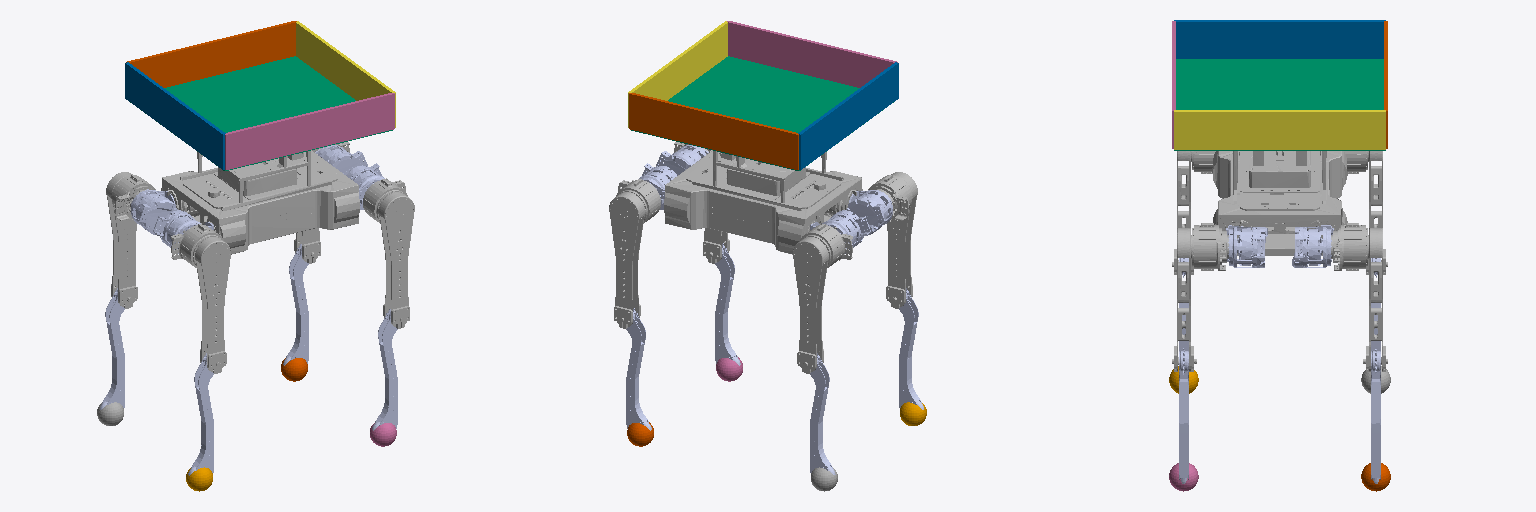
--- Facts derived from the render (not from the file) ---
Views: 3 orthographic renders of the robot side by side, from view 1: azimuth 30°, elevation 25°; view 2: azimuth 150°, elevation 25°; view 3: azimuth 270°, elevation 25°.
Model stoch3 with 24 links and 23 joints (12 revolute, 10 fixed, 1 floating), rooted at base_link, posed every joint at zero.
Visible links, largest first — view 1: base_link, payload_box_bottom, payload_box_right, payload_box_left, br_thigh_link, fr_thigh_link, payload_box_back, bl_thigh_link, payload_box_front, fr_shank_link, fl_shank_link, br_shank_link (+6 smaller); view 2: base_link, payload_box_bottom, payload_box_left, payload_box_right, bl_thigh_link, fl_thigh_link, payload_box_back, br_thigh_link, payload_box_front, fl_shank_link, fr_shank_link, bl_shank_link (+6 smaller); view 3: payload_box_bottom, base_link, payload_box_front, payload_box_back, fr_thigh_link, fl_thigh_link, bl_thigh_link, br_thigh_link, fr_abd_link, fl_abd_link, fl_shank_link, fr_shank_link.
Link boxes in pixels (x1=…): base_link: x1=161, y1=150, x2=359, y2=254; payload_box_bottom: x1=130, y1=56, x2=392, y2=170; payload_box_right: x1=225, y1=93, x2=394, y2=169; payload_box_left: x1=126, y1=21, x2=296, y2=87; br_thigh_link: x1=171, y1=224, x2=230, y2=373; fr_thigh_link: x1=363, y1=178, x2=414, y2=328; payload_box_back: x1=125, y1=62, x2=225, y2=169; bl_thigh_link: x1=106, y1=172, x2=155, y2=308; payload_box_front: x1=296, y1=21, x2=395, y2=127; fr_shank_link: x1=372, y1=309, x2=397, y2=430; fl_shank_link: x1=283, y1=244, x2=308, y2=365; br_shank_link: x1=188, y1=353, x2=213, y2=475; base_link: x1=664, y1=150, x2=862, y2=254; payload_box_bottom: x1=631, y1=56, x2=893, y2=170; payload_box_left: x1=629, y1=93, x2=798, y2=169; payload_box_right: x1=727, y1=21, x2=897, y2=87; bl_thigh_link: x1=793, y1=224, x2=852, y2=373; fl_thigh_link: x1=609, y1=179, x2=660, y2=328; payload_box_back: x1=798, y1=62, x2=898, y2=169; br_thigh_link: x1=868, y1=172, x2=917, y2=308; payload_box_front: x1=628, y1=21, x2=727, y2=127; fl_shank_link: x1=626, y1=308, x2=651, y2=430; fr_shank_link: x1=715, y1=243, x2=740, y2=365; bl_shank_link: x1=810, y1=353, x2=835, y2=474; payload_box_bottom: x1=1174, y1=59, x2=1385, y2=150; base_link: x1=1212, y1=151, x2=1347, y2=255; payload_box_front: x1=1174, y1=110, x2=1385, y2=149; payload_box_back: x1=1174, y1=20, x2=1385, y2=58; fr_thigh_link: x1=1172, y1=223, x2=1228, y2=371; fl_thigh_link: x1=1331, y1=223, x2=1387, y2=371; bl_thigh_link: x1=1344, y1=151, x2=1387, y2=274; br_thigh_link: x1=1172, y1=151, x2=1215, y2=274; fr_abd_link: x1=1226, y1=225, x2=1267, y2=267; fl_abd_link: x1=1292, y1=225, x2=1333, y2=267; fl_shank_link: x1=1371, y1=348, x2=1380, y2=483; fr_shank_link: x1=1179, y1=348, x2=1188, y2=483.
Bounding box of the posed robot: 0.6912 × 0.5242 × 0.998 m (x, y, z).
13 mesh visuals loaded from 13 distinct referenced files (13 binary STL).

URDF robot description (stoch3):
<?xml version="1.0" encoding="utf-8"?>
<!-- =================================================================================== -->
<!-- |    This document was autogenerated by xacro from stoch3.urdf.xacro              | -->
<!-- |    EDITING THIS FILE BY HAND IS NOT RECOMMENDED                                 | -->
<!-- =================================================================================== -->
<robot name="stoch3">
  <!-- <link name="world">
      </link>
  <joint name="world_joint" type="floating">
    <parent link="world"/>
    <child link="base_link"/>
  </joint> -->

  <link name="base_link">
    <inertial>
      <origin rpy="0 0 0" xyz="-0.00066643 -4.8401E-05 0.068162"/>
      <mass value="9.7565"/>
      <!--mass value="9.7565"/ -->
      <inertia ixx="0.028321" ixy="7.0431E-06" ixz="1.0437E-05" iyy="0.033624" iyz="-2.4398E-08" izz="0.053863"/>
    </inertial>
    <visual>
      <origin rpy="0 0 0" xyz="0 0 0"/>
      <geometry>
        <mesh filename="../meshes/base_link.STL"/>
      </geometry>
      <material name="">
        <color rgba="0.75294 0.75294 0.75294 1"/>
      </material>
    </visual>
    <collision>
      <origin rpy="0 0 0" xyz="0 0 0"/>
      <geometry>
        <mesh filename="../meshes/base_link.STL"/>
      </geometry>
    </collision>
  </link>
  <link name="fl_abd_link">
    <inertial>
      <origin rpy="0 0 0" xyz="0.061349 -0.019504 -7.6667E-06"/>
      <mass value="0.94517"/>
      <inertia ixx="0.00061416" ixy="5.7906E-07" ixz="-3.8412E-06" iyy="0.0010243" iyz="-1.6902E-06" izz="0.00060713"/>
    </inertial>
    <visual>
      <origin rpy="0 0 0" xyz="0 0 0"/>
      <geometry>
        <mesh filename="../meshes/fl_abd_link.STL"/>
      </geometry>
      <material name="">
        <color rgba="0.79216 0.81961 0.93333 1"/>
      </material>
    </visual>
    <collision>
      <origin rpy="0 0 0" xyz="0 0 0"/>
      <geometry>
        <mesh filename="../meshes/fl_abd_link.STL"/>
      </geometry>
    </collision>
  </link>
  <joint name="fl_abd_joint" type="revolute">
    <origin rpy="0 0 0" xyz="0.206917503877324 0.101500000000002 0.0540300000000024"/>
    <parent link="base_link"/>
    <child link="fl_abd_link"/>
    <axis xyz="1 0 0"/>
    <limit effort="100" lower="-1.5708" upper="1.5708" velocity="100"/>
  </joint>
  <link name="fl_thigh_link">
    <inertial>
      <origin rpy="0 0 0" xyz="0.0014376 0.077483 -0.055275"/>
      <mass value="2.4957"/>
      <inertia ixx="0.0049396" ixy="4.7834E-05" ixz="-3.2241E-06" iyy="0.0054131" iyz="-1.5857E-06" izz="0.0011512"/>
    </inertial>
    <visual>
      <origin rpy="0 0 0" xyz="0 0 0"/>
      <geometry>
        <mesh filename="../meshes/fl_thigh_link.STL"/>
      </geometry>
      <material name="">
        <color rgba="0.75294 0.75294 0.75294 1"/>
      </material>
    </visual>
    <collision>
      <origin rpy="0 0 0" xyz="0 0 0"/>
      <geometry>
        <mesh filename="../meshes/fl_thigh_link.STL"/>
      </geometry>
    </collision>
  </link>
  <joint name="fl_hip_joint" type="revolute">
    <origin rpy="0 -3.14584042145611E-05 0" xyz="0.06378709521538 0.0139999999999987 0"/>
    <parent link="fl_abd_link"/>
    <child link="fl_thigh_link"/>
    <axis xyz="0 1 0"/>
    <limit effort="100" lower="-1.57078" upper="3.14159" velocity="100"/>
  </joint>
  <link name="fl_shank_link">
    <inertial>
      <origin rpy="0 0 0" xyz="-0.014616 -6.6962E-07 -0.11828"/>
      <mass value="0.37918"/>
      <inertia ixx="0.0021646" ixy="5.617E-09" ixz="-4.4468E-05" iyy="0.0022225" iyz="3.9894E-08" izz="6.6686E-05"/>
    </inertial>
    <visual>
      <origin rpy="0 0 0" xyz="0 0 0"/>
      <geometry>
        <mesh filename="../meshes/fl_shank_link.STL"/>
      </geometry>
      <material name="">
        <color rgba="0.79216 0.81961 0.93333 1"/>
      </material>
    </visual>
    <collision>
      <origin rpy="0 0 0" xyz="0 0 0"/>
      <geometry>
        <mesh filename="../meshes/fl_shank_link.STL"/>
      </geometry>
    </collision>
  </link>
  <joint name="fl_knee_joint" type="revolute">
    <origin rpy="0 3.14584042149928E-05 0" xyz="0 0.111399999999998 -0.296999999853041"/>
    <parent link="fl_thigh_link"/>
    <child link="fl_shank_link"/>
    <axis xyz="0 1 0"/>
    <limit effort="100" lower="-3.14159" upper="0" velocity="100"/>
  </joint>
  <link name="fr_abd_link">
    <inertial>
      <origin rpy="0 0 0" xyz="0.06156 0.019504 -0.00021624"/>
      <mass value="0.94517"/>
      <inertia ixx="0.00061326" ixy="3.2241E-07" ixz="1.5152E-08" iyy="0.0010243" iyz="-3.8552E-06" izz="0.00060803"/>
    </inertial>
    <visual>
      <origin rpy="0 0 0" xyz="0 0 0"/>
      <geometry>
        <mesh filename="../meshes/fr_abd_link.STL"/>
      </geometry>
      <material name="">
        <color rgba="0.79216 0.81961 0.93333 1"/>
      </material>
    </visual>
    <collision>
      <origin rpy="0 0 0" xyz="0 0 0"/>
      <geometry>
        <mesh filename="../meshes/fr_abd_link.STL"/>
      </geometry>
    </collision>
  </link>
  <joint name="fr_abd_joint" type="revolute">
    <origin rpy="0 0 0" xyz="0.206925357517166 -0.101499999999999 0.0540300000000003"/>
    <parent link="base_link"/>
    <child link="fr_abd_link"/>
    <axis xyz="1 0 0"/>
    <limit effort="100" lower="-1.5708" upper="1.5708" velocity="100"/>
  </joint>
  <link name="fr_thigh_link">
    <inertial>
      <origin rpy="0 0 0" xyz="0.00144107858196152 -0.07748346487516 -0.0551703662273829"/>
      <mass value="2.49567510872212"/>
      <inertia ixx="0.00493964200419569" ixy="-4.78342957937469E-05" ixz="3.2241369041665E-06" iyy="0.00541305231980369" iyz="-1.61934782864799E-06" izz="0.00115115548345638"/>
    </inertial>
    <visual>
      <origin rpy="0 0 0" xyz="0 0 0"/>
      <geometry>
        <mesh filename="../meshes/fr_thigh_link.STL"/>
      </geometry>
      <material name="">
        <color rgba="0.752941176470588 0.752941176470588 0.752941176470588 1"/>
      </material>
    </visual>
    <collision>
      <origin rpy="0 0 0" xyz="0 0 0"/>
      <geometry>
        <mesh filename="../meshes/fr_thigh_link.STL"/>
      </geometry>
    </collision>
  </link>
  <joint name="fr_hip_joint" type="revolute">
    <origin rpy="0 3.145840420901E-05 0" xyz="0.06377924157554 -0.0139999999999988 0"/>
    <parent link="fr_abd_link"/>
    <child link="fr_thigh_link"/>
    <axis xyz="0 1 0"/>
    <limit effort="100" lower="-1.57078" upper="3.14159" velocity="100"/>
  </joint>
  <link name="fr_shank_link">
    <inertial>
      <origin rpy="0 0 0" xyz="-0.014616 -6.6962E-07 -0.11828"/>
      <mass value="0.37918"/>
      <inertia ixx="0.0021646" ixy="5.617E-09" ixz="-4.4468E-05" iyy="0.0022225" iyz="3.9894E-08" izz="6.6686E-05"/>
    </inertial>
    <visual>
      <origin rpy="0 0 0" xyz="0 0 0"/>
      <geometry>
        <mesh filename="../meshes/fr_shank_link.STL"/>
      </geometry>
      <material name="">
        <color rgba="0.79216 0.81961 0.93333 1"/>
      </material>
    </visual>
    <collision>
      <origin rpy="0 0 0" xyz="0 0 0"/>
      <geometry>
        <mesh filename="../meshes/fr_shank_link.STL"/>
      </geometry>
    </collision>
  </link>
  <joint name="fr_knee_joint" type="revolute">
    <origin rpy="0 -3.14584042085783E-05 0" xyz="0 -0.111599999999999 -0.29699999985303"/>
    <parent link="fr_thigh_link"/>
    <child link="fr_shank_link"/>
    <axis xyz="0 1 0"/>
    <limit effort="100" lower="-3.14159" upper="0" velocity="100"/>
  </joint>
  <link name="bl_abd_link">
    <inertial>
      <origin rpy="0 0 0" xyz="0.030793 -0.019504 -0.00042262"/>
      <mass value="0.94517"/>
      <inertia ixx="0.00061091" ixy="-9.6216E-07" ixz="-1.2691E-06" iyy="0.0010243" iyz="1.7068E-06" izz="0.00061038"/>
    </inertial>
    <visual>
      <origin rpy="0 0 0" xyz="0 0 0"/>
      <geometry>
        <mesh filename="../meshes/bl_abd_link.STL"/>
      </geometry>
      <material name="">
        <color rgba="0.79216 0.81961 0.93333 1"/>
      </material>
    </visual>
    <collision>
      <origin rpy="0 0 0" xyz="0 0 0"/>
      <geometry>
        <mesh filename="../meshes/bl_abd_link.STL"/>
      </geometry>
    </collision>
  </link>
  <joint name="bl_abd_joint" type="revolute">
    <origin rpy="0 0 0" xyz="-0.299402452130055 0.101499999999997 0.0540300000000009"/>
    <parent link="base_link"/>
    <child link="bl_abd_link"/>
    <axis xyz="1 0 0"/>
    <limit effort="100" lower="-1.5708" upper="1.5708" velocity="100"/>
  </joint>
  <link name="bl_thigh_link">
    <inertial>
      <origin rpy="0 0 0" xyz="-0.00144107858108192 0.0774834648849106 -0.0551703662338023"/>
      <mass value="2.49567510818258"/>
      <inertia ixx="0.00493964200383586" ixy="-4.78342957989956E-05" ixz="-3.22413680518202E-06" iyy="0.0054130523194199" iyz="1.61934780851157E-06" izz="0.00115115548343042"/>
    </inertial>
    <visual>
      <origin rpy="0 0 0" xyz="0 0 0"/>
      <geometry>
        <mesh filename="../meshes/bl_thigh_link.STL"/>
      </geometry>
      <material name="">
        <color rgba="0.752941176470588 0.752941176470588 0.752941176470588 1"/>
      </material>
    </visual>
    <collision>
      <origin rpy="0 0 0" xyz="0 0 0"/>
      <geometry>
        <mesh filename="../meshes/bl_thigh_link.STL"/>
      </geometry>
    </collision>
  </link>
  <joint name="bl_hip_joint" type="revolute">
    <origin rpy="0 -3.14584042145611E-05 0" xyz="0.0286978530373435 0.0139999999999997 0"/>
    <parent link="bl_abd_link"/>
    <child link="bl_thigh_link"/>
    <axis xyz="0 1 0"/>
    <limit effort="100" lower="-1.57078" upper="3.14159" velocity="100"/>
  </joint>
  <link name="bl_shank_link">
    <inertial>
      <origin rpy="0 0 0" xyz="-0.014616 -6.6962E-07 -0.11828"/>
      <mass value="0.37918"/>
      <inertia ixx="0.0021646" ixy="5.617E-09" ixz="-4.4468E-05" iyy="0.0022225" iyz="3.9894E-08" izz="6.6686E-05"/>
    </inertial>
    <visual>
      <origin rpy="0 0 0" xyz="0 0 0"/>
      <geometry>
        <mesh filename="../meshes/bl_shank_link.STL"/>
      </geometry>
      <material name="">
        <color rgba="0.79216 0.81961 0.93333 1"/>
      </material>
    </visual>
    <collision>
      <origin rpy="0 0 0" xyz="0 0 0"/>
      <geometry>
        <mesh filename="../meshes/bl_shank_link.STL"/>
      </geometry>
    </collision>
  </link>
  <joint name="bl_knee_joint" type="revolute">
    <origin rpy="0 3.14584042094417E-05 0" xyz="0 0.111599999999496 -0.29699999985304"/>
    <parent link="bl_thigh_link"/>
    <child link="bl_shank_link"/>
    <axis xyz="0 1 0"/>
    <limit effort="100" lower="-3.14159" upper="0" velocity="100"/>
  </joint>
  <link name="br_abd_link">
    <inertial>
      <origin rpy="0 0 0" xyz="0.031108 0.019504 -1.7708E-05"/>
      <mass value="0.94517"/>
      <inertia ixx="0.00061475" ixy="8.7419E-07" ixz="3.1106E-06" iyy="0.0010243" iyz="1.7938E-06" izz="0.00060654"/>
    </inertial>
    <visual>
      <origin rpy="0 0 0" xyz="0 0 0"/>
      <geometry>
        <mesh filename="../meshes/br_abd_link.STL"/>
      </geometry>
      <material name="">
        <color rgba="0.79216 0.81961 0.93333 1"/>
      </material>
    </visual>
    <collision>
      <origin rpy="0 0 0" xyz="0 0 0"/>
      <geometry>
        <mesh filename="../meshes/br_abd_link.STL"/>
      </geometry>
    </collision>
  </link>
  <joint name="br_abd_joint" type="revolute">
    <origin rpy="0 0 0" xyz="-0.299402452130055 -0.101500000000005 0.0540300000000005"/>
    <parent link="base_link"/>
    <child link="br_abd_link"/>
    <axis xyz="1 0 0"/>
    <limit effort="100" lower="-1.5708" upper="1.5708" velocity="100"/>
  </joint>
  <link name="br_thigh_link">
    <inertial>
      <origin rpy="0 0 0" xyz="-0.00150303818321485 -0.0774834645949825 -0.0552213173300917"/>
      <mass value="2.49567512655825"/>
      <inertia ixx="0.0049362160738861" ixy="4.96261951245898E-05" ixz="2.5269174510805E-06" iyy="0.00541305233737715" iyz="1.18125628096648E-07" izz="0.00115458143484649"/>
    </inertial>
    <visual>
      <origin rpy="0 0 0" xyz="0 0 0"/>
      <geometry>
        <mesh filename="../meshes/br_thigh_link.STL"/>
      </geometry>
      <material name="">
        <color rgba="0.752941176470588 0.752941176470588 0.752941176470588 1"/>
      </material>
    </visual>
    <collision>
      <origin rpy="0 0 0" xyz="0 0 0"/>
      <geometry>
        <mesh filename="../meshes/br_thigh_link.STL"/>
      </geometry>
    </collision>
  </link>
  <joint name="br_hip_joint" type="revolute">
    <origin rpy="0 3.14584042201122E-05 0" xyz="0.0286978530373517 -0.0139999999999956 0"/>
    <parent link="br_abd_link"/>
    <child link="br_thigh_link"/>
    <axis xyz="0 1 0"/>
    <limit effort="100" lower="-1.57078" upper="3.14159" velocity="100"/>
  </joint>
  <link name="br_shank_link">
    <inertial>
      <origin rpy="0 0 0" xyz="-0.014616 -6.6962E-07 -0.11828"/>
      <mass value="0.37918"/>
      <inertia ixx="0.0021646" ixy="5.617E-09" ixz="-4.4468E-05" iyy="0.0022225" iyz="3.9894E-08" izz="6.6686E-05"/>
    </inertial>
    <visual>
      <origin rpy="0 0 0" xyz="0 0 0"/>
      <geometry>
        <mesh filename="../meshes/br_shank_link.STL"/>
      </geometry>
      <material name="">
        <color rgba="0.79216 0.81961 0.93333 1"/>
      </material>
    </visual>
    <collision>
      <origin rpy="0 0 0" xyz="0 0 0"/>
      <geometry>
        <mesh filename="../meshes/br_shank_link.STL"/>
      </geometry>
    </collision>
  </link>
  <joint name="br_knee_joint" type="revolute">
    <origin rpy="0 -3.14584042141294E-05 0" xyz="0 -0.111600000000005 -0.296999999853014"/>
    <parent link="br_thigh_link"/>
    <child link="br_shank_link"/>
    <axis xyz="0 1 0"/>
    <limit effort="100" lower="-3.14159" upper="0" velocity="100"/>
  </joint>
  <link name="fl_foot_link">
    <visual>
      <origin rpy="0 0 0" xyz="-0.04 0 -0.02"/>
      <geometry>
        <sphere radius="0.035"/>
      </geometry>
    </visual>
    <collision>
      <origin rpy="0 0 0" xyz="-0.04 0 -0.02"/>
      <geometry>
        <sphere radius="0.035"/>
      </geometry>
    </collision>
    <inertial>
      <origin rpy="0 0 0" xyz="-0.04 0 -0.02"/>
      <mass value="0.05"/>
      <inertia ixx="1E-7" ixy ="0" ixz = "0" iyy="1E-7" iyz="0"  izz="1E-7"/>
    </inertial>
  </link>
  <joint name="fl_ankle_joint" type="fixed" dont_collapse="true">
    <parent link="fl_shank_link"/>
    <child link="fl_foot_link"/>
    <origin rpy="0 0 0" xyz="0 0 -0.3"/>
  </joint>
  <link name="fr_foot_link">
    <visual>
      <origin rpy="0 0 0" xyz="-0.04 0 -0.02"/>
      <geometry>
        <sphere radius="0.035"/>
      </geometry>
    </visual>
    <collision>
      <origin rpy="0 0 0" xyz="-0.04 0 -0.02"/>
      <geometry>
        <sphere radius="0.035"/>
      </geometry>
    </collision>
   <inertial>
      <origin rpy="0 0 0" xyz="-0.04 0 -0.02"/>
      <mass value="0.05"/>
      <inertia ixx="1E-7" ixy ="0" ixz = "0" iyy="1E-7" iyz="0"  izz="1E-7"/>
    </inertial>

  </link>  
  <joint name="fr_ankle_joint" type="fixed" dont_collapse="true">
    <parent link="fr_shank_link"/>
    <child link="fr_foot_link"/>
    <origin rpy="0 0 0" xyz="0 0 -0.3"/>
  </joint>
  <link name="bl_foot_link">
    <visual>
      <origin rpy="0 0 0" xyz="-0.04 0 -0.02"/>
      <geometry>
        <sphere radius="0.035"/>
      </geometry>
    </visual>
    <collision>
      <origin rpy="0 0 0" xyz="-0.04 0 -0.02"/>
      <geometry>
        <sphere radius="0.035"/>
      </geometry>
    </collision>
   <inertial>
      <origin rpy="0 0 0" xyz="-0.04 0 -0.02"/>
      <mass value="0.05"/>
      <inertia ixx="1E-7" ixy ="0" ixz = "0" iyy="1E-7" iyz="0"  izz="1E-7"/>
    </inertial>
  </link>  
  <joint name="bl_ankle_joint" type="fixed" dont_collapse="true">
    <parent link="bl_shank_link"/>
    <child link="bl_foot_link"/>
    <origin rpy="0 0 0" xyz="0 0 -0.3"/>
  </joint>
  <link name="br_foot_link">
      <visual>
      <origin rpy="0 0 0" xyz="-0.04 0 -0.02"/>
      <geometry>
        <sphere radius="0.035"/>
      </geometry>
    </visual>
    <collision>
      <origin rpy="0 0 0" xyz="-0.04 0 -0.02"/>
      <geometry>
        <sphere radius="0.035"/>
      </geometry>
    </collision>

   <inertial>
      <origin rpy="0 0 0" xyz="-0.04 0 -0.02"/>
      <mass value="0.05"/>
      <inertia ixx="1E-7" ixy ="0" ixz = "0" iyy="1E-7" iyz="0"  izz="1E-7"/>
    </inertial>

  </link>  
  <joint name="br_ankle_joint" type="fixed" dont_collapse="true">
    <parent link="br_shank_link"/>
    <child link="br_foot_link"/>
    <origin rpy="0 0 0" xyz="0 0 -0.3"/>
  </joint>

   <link name="payload">
    <visual>
      <origin rpy="0 0 0" xyz="0 0 0"/>
      <geometry>
        <sphere radius="0.02"/>
      </geometry>      
    </visual>
    <collision>
      <origin rpy="0 0 0" xyz="0 0 0"/>
      <geometry>
        <sphere radius="0.02"/>
      </geometry>
    </collision>
    <inertial>
      <mass value="5"/>
      <inertia ixx="9.6e-06" ixy="0.0" ixz="0.0" iyy="9.6e-06" iyz="0.0" izz="9.6e-06"/>
    </inertial>
  </link>

  <link name="payload_box_bottom">
    <visual>
      <origin rpy="0 0 0" xyz="0 0 0.3"/>
      <geometry>
        <box size="0.5 0.5 0.01" />
      </geometry>      
    </visual>
    <collision>
      <origin rpy="0 0 0" xyz="0 0 0.3"/>
      <geometry>
        <box size="0.5 0.5 0.01" />
      </geometry>
    </collision>
    <inertial>
      <mass value="0.001"/>
      <inertia ixx="9.6e-06" ixy="0.0" ixz="0.0" iyy="9.6e-06" iyz="0.0" izz="9.6e-06"/>
    </inertial>
    
  </link>

  <link name="payload_box_front">
    <visual>
      <origin rpy="0 0 0" xyz="0.25 0 0.35"/>
      <geometry>
        <box size="0.01 0.5 0.1" />
      </geometry>      
    </visual>
    <collision>
      <origin rpy="0 0 0" xyz="0.25 0 0.35"/>
      <geometry>
        <box size="0.01 0.5 0.1" />
      </geometry>
    </collision>
    <inertial>
      <mass value="0.001"/>
      <inertia ixx="9.6e-06" ixy="0.0" ixz="0.0" iyy="9.6e-06" iyz="0.0" izz="9.6e-06"/>
    </inertial>
  </link>

  <link name="payload_box_back">
    <visual>
      <origin rpy="0 0 0" xyz="-0.25 0 0.35"/>
      <geometry>
        <box size="0.01 0.5 0.1" />
      </geometry>      
    </visual>
    <collision>
      <origin rpy="0 0 0" xyz="-0.25 0 0.35"/>
      <geometry>
        <box size="0.01 0.5 0.1" />
      </geometry>
    </collision>
    <inertial>
      <mass value="0.001"/>
      <inertia ixx="9.6e-06" ixy="0.0" ixz="0.0" iyy="9.6e-06" iyz="0.0" izz="9.6e-06"/>
    </inertial>
  </link>

  <link name="payload_box_left">
    <visual>
      <origin rpy="0 0 0" xyz="0 0.25 0.35"/>
      <geometry>
        <box size="0.5 0.01 0.1" />
      </geometry>      
    </visual>
    <collision>
      <origin rpy="0 0 0" xyz="0 0.25 0.35"/>
      <geometry>
        <box size="0.5 0.01 0.1" />
      </geometry>
    </collision>
    <inertial>
      <mass value="0.001"/>
      <inertia ixx="9.6e-06" ixy="0.0" ixz="0.0" iyy="9.6e-06" iyz="0.0" izz="9.6e-06"/>
    </inertial>
  </link>

  <link name="payload_box_right">
    <visual>
      <origin rpy="0 0 0" xyz="0 -0.25 0.35"/>
      <geometry>
        <box size="0.5 0.01 0.1" />
      </geometry>      
    </visual>
    <collision>
      <origin rpy="0 0 0" xyz="0 -0.25 0.35"/>
      <geometry>
        <box size="0.5 0.01 0.1" />
      </geometry>
    </collision>
    <inertial>
      <mass value="0.001"/>
      <inertia ixx="9.6e-06" ixy="0.0" ixz="0.0" iyy="9.6e-06" iyz="0.0" izz="9.6e-06"/>
    </inertial>
  </link>

  
  <joint name="payload_joint" type="floating">
    <parent link="payload_box_bottom"/>
    <child link="payload"/>
    <origin rpy="0 0 0" xyz="0 0 0.0"/>
  </joint>

  <joint name="payload_box_bottom_joint" type="fixed">
    <parent link="base_link"/>
    <child link="payload_box_bottom"/>
    <origin rpy="0 0 0" xyz="0 0 0.0"/>
  </joint>

  <joint name="payload_box_front_joint" type="fixed">
    <parent link="payload_box_bottom"/>
    <child link="payload_box_front"/>
    <origin rpy="0 0 0" xyz="0 0 0.0"/>
  </joint>

  <joint name="payload_box_back_joint" type="fixed">
    <parent link="payload_box_bottom"/>
    <child link="payload_box_back"/>
    <origin rpy="0 0 0" xyz="0 0 0.0"/>
  </joint>

  <joint name="payload_box_left_joint" type="fixed">
    <parent link="payload_box_bottom"/>
    <child link="payload_box_left"/>
    <origin rpy="0 0 0" xyz="0 0 0.0"/>
  </joint>

  <joint name="payload_box_right_joint" type="fixed">
    <parent link="payload_box_bottom"/>
    <child link="payload_box_right"/>
    <origin rpy="0 0 0" xyz="0 0 0.0"/>
  </joint>

  <transmission name="fl_abd_trans">
    <type>transmission_interface/SimpleTransmission</type>
    <joint name="fl_abd_joint">
      <hardwareInterface>hardware_interface/PosVelEffJointInterface</hardwareInterface>
    </joint>
    <actuator name="fl_abd_motor">
      <mechanicalReduction>1</mechanicalReduction>
    </actuator>
  </transmission>
  <transmission name="fl_hip_trans">
    <type>transmission_interface/SimpleTransmission</type>
    <joint name="fl_hip_joint">
      <hardwareInterface>hardware_interface/PosVelEffJointInterface</hardwareInterface>
    </joint>
    <actuator name="fl_hip_motor">
      <mechanicalReduction>1</mechanicalReduction>
    </actuator>
  </transmission>
  <transmission name="fl_knee_trans">
    <type>transmission_interface/SimpleTransmission</type>
    <joint name="fl_knee_joint">
      <hardwareInterface>hardware_interface/PosVelEffJointInterface</hardwareInterface>
    </joint>
    <actuator name="fl_knee_motor">
      <mechanicalReduction>1</mechanicalReduction>
    </actuator>
  </transmission>
  <transmission name="bl_abd_trans">
    <type>transmission_interface/SimpleTransmission</type>
    <joint name="bl_abd_joint">
      <hardwareInterface>hardware_interface/PosVelEffJointInterface</hardwareInterface>
    </joint>
    <actuator name="bl_abd_motor">
      <mechanicalReduction>1</mechanicalReduction>
    </actuator>
  </transmission>
  <transmission name="bl_hip_trans">
    <type>transmission_interface/SimpleTransmission</type>
    <joint name="bl_hip_joint">
      <hardwareInterface>hardware_interface/PosVelEffJointInterface</hardwareInterface>
    </joint>
    <actuator name="bl_hip_motor">
      <mechanicalReduction>1</mechanicalReduction>
    </actuator>
  </transmission>
  <transmission name="bl_knee_trans">
    <type>transmission_interface/SimpleTransmission</type>
    <joint name="bl_knee_joint">
      <hardwareInterface>hardware_interface/PosVelEffJointInterface</hardwareInterface>
    </joint>
    <actuator name="bl_knee_motor">
      <mechanicalReduction>1</mechanicalReduction>
    </actuator>
  </transmission>
  <transmission name="fr_abd_trans">
    <type>transmission_interface/SimpleTransmission</type>
    <joint name="fr_abd_joint">
      <hardwareInterface>hardware_interface/PosVelEffJointInterface</hardwareInterface>
    </joint>
    <actuator name="fr_abd_motor">
      <mechanicalReduction>1</mechanicalReduction>
    </actuator>
  </transmission>
  <transmission name="fr_hip_trans">
    <type>transmission_interface/SimpleTransmission</type>
    <joint name="fr_hip_joint">
      <hardwareInterface>hardware_interface/PosVelEffJointInterface</hardwareInterface>
    </joint>
    <actuator name="fr_hip_motor">
      <mechanicalReduction>1</mechanicalReduction>
    </actuator>
  </transmission>
  <transmission name="fr_knee_trans">
    <type>transmission_interface/SimpleTransmission</type>
    <joint name="fr_knee_joint">
      <hardwareInterface>hardware_interface/PosVelEffJointInterface</hardwareInterface>
    </joint>
    <actuator name="fr_knee_motor">
      <mechanicalReduction>1</mechanicalReduction>
    </actuator>
  </transmission>
  <transmission name="br_abd_trans">
    <type>transmission_interface/SimpleTransmission</type>
    <joint name="br_abd_joint">
      <hardwareInterface>hardware_interface/PosVelEffJointInterface</hardwareInterface>
    </joint>
    <actuator name="br_abd_motor">
      <mechanicalReduction>1</mechanicalReduction>
    </actuator>
  </transmission>
  <transmission name="br_hip_trans">
    <type>transmission_interface/SimpleTransmission</type>
    <joint name="br_hip_joint">
      <hardwareInterface>hardware_interface/PosVelEffJointInterface</hardwareInterface>
    </joint>
    <actuator name="br_hip_motor">
      <mechanicalReduction>1</mechanicalReduction>
    </actuator>
  </transmission>
  <transmission name="br_knee_trans">
    <type>transmission_interface/SimpleTransmission</type>
    <joint name="br_knee_joint">
      <hardwareInterface>hardware_interface/PosVelEffJointInterface</hardwareInterface>
    </joint>
    <actuator name="br_knee_motor">
      <mechanicalReduction>1</mechanicalReduction>
    </actuator>
  </transmission>
  <gazebo reference="base_link_link">
    <material>Gazebo/White</material>
    <kp>10000000.0</kp>
    <kd>1.0</kd>
    <mu1>4.0</mu1>
    <mu2>4.0</mu2>
    <maxVel>0.0</maxVel>
    <minDepth>0.001</minDepth>
  </gazebo>
  <gazebo reference="fl_abd_link">
    <material>Gazebo/Grey</material>
    <kp>10000000.0</kp>
    <kd>1.0</kd>
    <mu1>4.0</mu1>
    <mu2>4.0</mu2>
    <maxVel>0.0</maxVel>
    <minDepth>0.001</minDepth>
  </gazebo>
  <gazebo reference="bl_abd_link">
    <material>Gazebo/Grey</material>
    <kp>10000000.0</kp>
    <kd>1.0</kd>
    <mu1>4.0</mu1>
    <mu2>4.0</mu2>
    <maxVel>0.0</maxVel>
    <minDepth>0.001</minDepth>
  </gazebo>
  <gazebo reference="fr_abd_link">
    <material>Gazebo/Grey</material>
    <kp>10000000.0</kp>
    <kd>1.0</kd>
    <mu1>4.0</mu1>
    <mu2>4.0</mu2>
    <maxVel>0.0</maxVel>
    <minDepth>0.001</minDepth>
  </gazebo>
  <gazebo reference="br_abd_link">
    <material>Gazebo/Grey</material>
    <kp>10000000.0</kp>
    <kd>1.0</kd>
    <mu1>4.0</mu1>
    <mu2>4.0</mu2>
    <maxVel>0.0</maxVel>
    <minDepth>0.001</minDepth>
  </gazebo>
  <gazebo reference="fl_thigh_link">
    <material>Gazebo/DarkGrey</material>
    <kp>10000000.0</kp>
    <kd>1.0</kd>
    <mu1>4.0</mu1>
    <mu2>4.0</mu2>
    <maxVel>0.0</maxVel>
    <minDepth>0.001</minDepth>
  </gazebo>
  <gazebo reference="bl_thigh_link">
    <material>Gazebo/DarkGrey</material>
    <kp>10000000.0</kp>
    <kd>1.0</kd>
    <mu1>4.0</mu1>
    <mu2>4.0</mu2>
    <maxVel>0.0</maxVel>
    <minDepth>0.001</minDepth>
  </gazebo>
  <gazebo reference="fr_thigh_link">
    <material>Gazebo/DarkGrey</material>
    <kp>10000000.0</kp>
    <kd>1.0</kd>
    <mu1>4.0</mu1>
    <mu2>4.0</mu2>
    <maxVel>0.0</maxVel>
    <minDepth>0.001</minDepth>
  </gazebo>
  <gazebo reference="br_thigh_link">
    <material>Gazebo/DarkGrey</material>
    <kp>10000000.0</kp>
    <kd>1.0</kd>
    <mu1>4.0</mu1>
    <mu2>4.0</mu2>
    <maxVel>0.0</maxVel>
    <minDepth>0.001</minDepth>
  </gazebo>
  <gazebo reference="fl_shank_link">
    <material>Gazebo/Grey</material>
    <kp>10000000.0</kp>
    <kd>1.0</kd>
    <mu1>4.0</mu1>
    <mu2>4.0</mu2>
    <maxVel>0.0</maxVel>
    <minDepth>0.001</minDepth>
  </gazebo>
  <gazebo reference="bl_shank_link">
    <material>Gazebo/Grey</material>
    <kp>10000000.0</kp>
    <kd>1.0</kd>
    <mu1>4.0</mu1>
    <mu2>4.0</mu2>
    <maxVel>0.0</maxVel>
    <minDepth>0.001</minDepth>
  </gazebo>
  <gazebo reference="fr_shank_link">
    <material>Gazebo/Grey</material>
    <kp>10000000.0</kp>
    <kd>1.0</kd>
    <mu1>4.0</mu1>
    <mu2>4.0</mu2>
    <maxVel>0.0</maxVel>
    <minDepth>0.001</minDepth>
  </gazebo>
  <gazebo reference="br_shank_link">
    <material>Gazebo/Grey</material>
    <kp>10000000.0</kp>
    <kd>1.0</kd>
    <mu1>4.0</mu1>
    <mu2>4.0</mu2>
    <maxVel>0.0</maxVel>
    <minDepth>0.001</minDepth>
  </gazebo>
  <!-- Enable the Joint Control -->
  <gazebo>
    <plugin filename="libgazebo_ros_control.so" name="gazebo_ros_control">
      <legacyModeNS>true</legacyModeNS>
      <robotNamespace>stoch3</robotNamespace>
      <robotSimType>stoch3_gazebo/Stoch3RobotHWSim</robotSimType>
    </plugin>
  </gazebo>
  <gazebo>
    <self_collide>1</self_collide>
  </gazebo>
  
  <gazebo>
  <plugin name="PayloadPlugin" filename="libpayload_plugin.so"/>
  </gazebo>

  
  <!--
        <gazebo>
            <plugin filename="libgazebo_ros_p3d.so" name="p3d_base_controller">
                <alwaysOn>true</alwaysOn>
                <updateRate>10.0</updateRate>
                <bodyName>base_link</bodyName>
                <topicName>odom/ground_truth</topicName>
                <gaussianNoise>0.01</gaussianNoise>
                <frameName>world</frameName>
                <xyzOffsets>0 0 0</xyzOffsets>
                <rpyOffsets>0 0 0</rpyOffsets>
            </plugin>
        </gazebo>
        -->
  <link name="imu_link_1">
    <inertial>
      <mass value="0.001"/>
      <origin rpy="0 0 0" xyz="0 0 0"/>
      <inertia ixx="1e-09" ixy="0.0" ixz="0.0" iyy="1e-09" iyz="0.0" izz="1e-09"/>
    </inertial>
    <visual>
      <origin rpy="0 0 0" xyz="0 0 0"/>
      <geometry>
        <box size="0.005 0.005 0.005"/>
      </geometry>
      <material name="">
        <color rgba="0.6 0.8 0.1 1"/>
      </material>
    </visual>
  </link>
  <joint name="imu_joint_1" type="fixed">
    <parent link="base_link"/>
    <child link="imu_link_1"/>
    <origin rpy="0.0 0.0 0.0" xyz="0.0 0.0 0.005"/>
  </joint>
  <gazebo>
    <plugin filename="libhector_gazebo_ros_imu.so" name="imu_1_controller">
      <updateRate>100</updateRate>
      <bodyName>imu_link_1</bodyName>
      <topicName>sensors/imu_1</topicName>
      <accelDrift>0.005 0.005 0.005</accelDrift>
      <accelGaussianNoise>0.005 0.005 0.005</accelGaussianNoise>
      <rateDrift>0.005 0.005 0.005 </rateDrift>
      <rateGaussianNoise>0.005 0.005 0.005</rateGaussianNoise>
      <headingDrift>0.005</headingDrift>
      <headingGaussianNoise>0.005</headingGaussianNoise>
    </plugin>
    <material>Gazebo/Yellow</material>
  </gazebo>
</robot>
